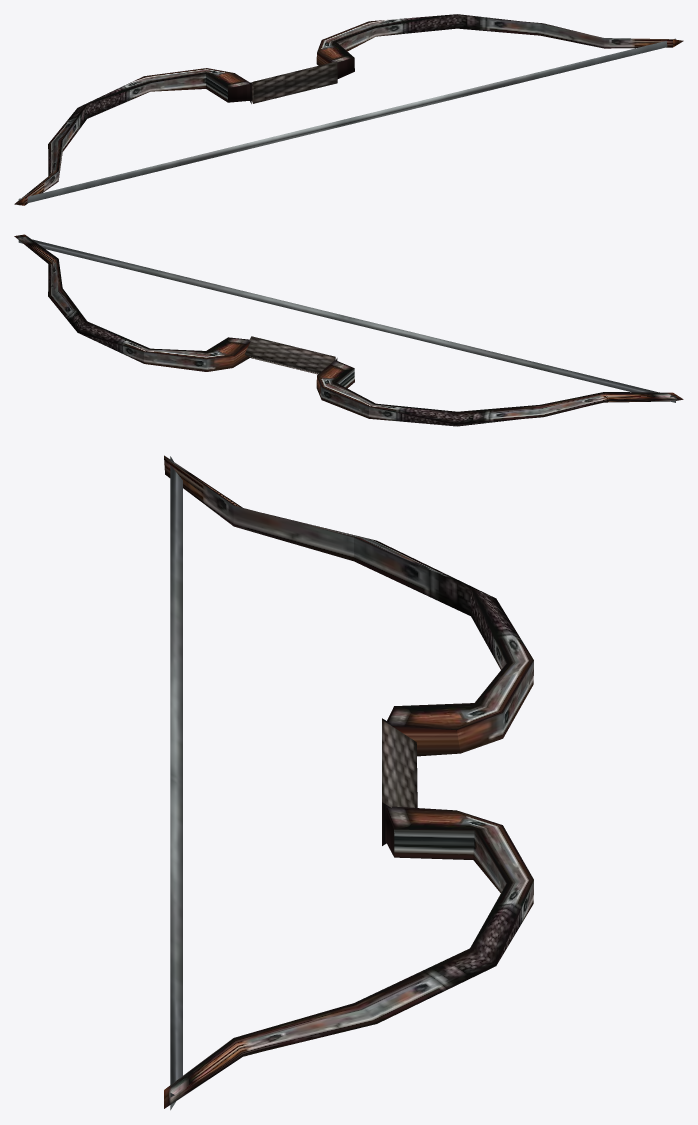
File: ITRW_BOW_H_VANILLA_04.glb
The picture shows the model from 3 angles, top to bottom: view 1: azimuth 30°, elevation 25°; view 2: azimuth 150°, elevation 25°; view 3: azimuth 270°, elevation 25°; orthographic projection. The views are drawn at different scales.
Visible parts, largest first — view 1: ITRW_BOW_H_VANILLA_04; view 2: ITRW_BOW_H_VANILLA_04; view 3: ITRW_BOW_H_VANILLA_04.
Boxes of the visible parts, x1=… form: ITRW_BOW_H_VANILLA_04: x1=14, y1=14, x2=683, y2=205; ITRW_BOW_H_VANILLA_04: x1=14, y1=234, x2=683, y2=426; ITRW_BOW_H_VANILLA_04: x1=164, y1=455, x2=533, y2=1110.
Size of the model in its own units: 1.86 by 0.0589 by 0.4454.
1 material, 1 textured.
